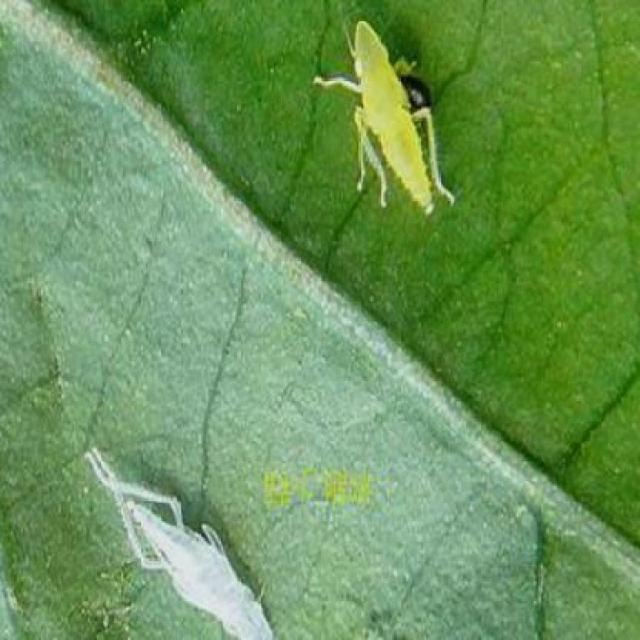green-leafhopper: (338, 17, 452, 214)
